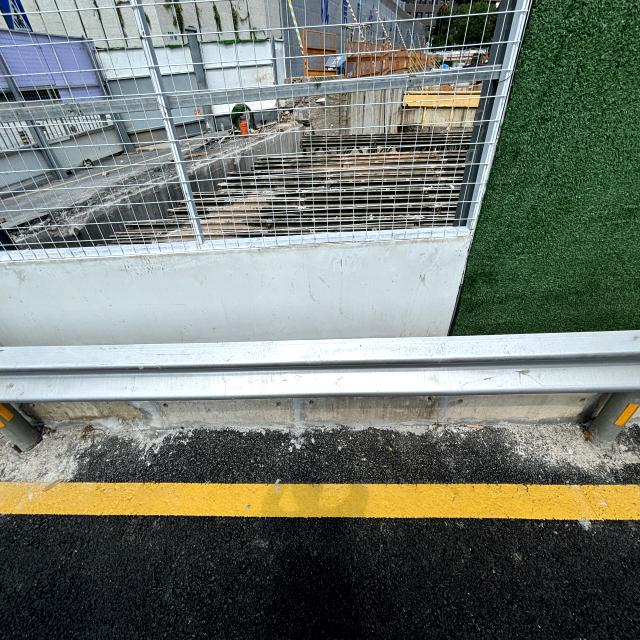Guard rail: (0, 330, 640, 427)
